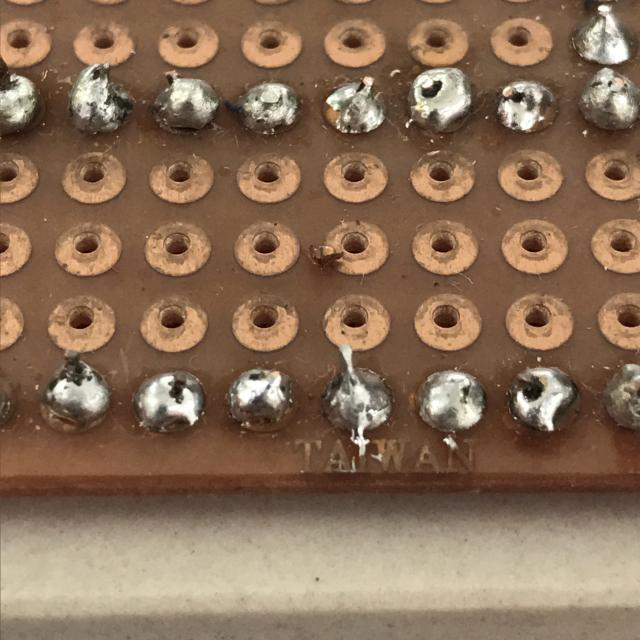excess: (58, 64, 140, 142)
good: (406, 360, 496, 444), (565, 1, 639, 70)
hole: (128, 364, 215, 441), (403, 64, 479, 138)
pad_less: (220, 361, 305, 441), (316, 76, 392, 141)
